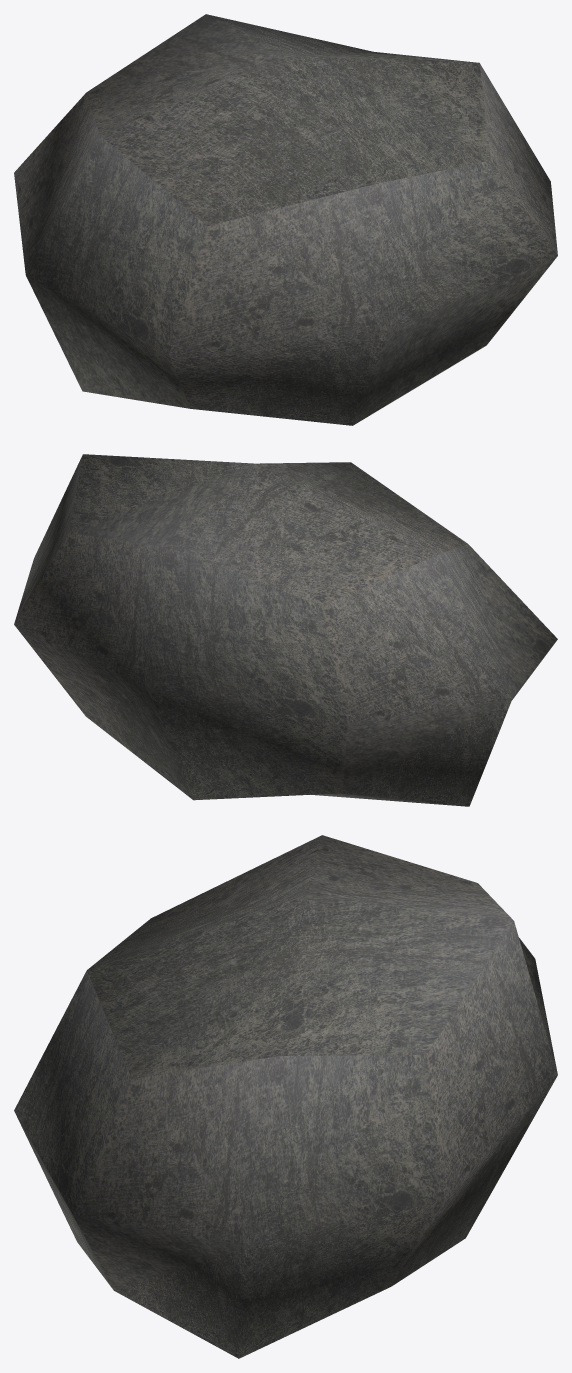
Rendered from IronOre.FBX.
The picture shows the model from 3 angles, top to bottom: view 1: azimuth 30°, elevation 25°; view 2: azimuth 150°, elevation 25°; view 3: azimuth 270°, elevation 25°; orthographic projection. The views are drawn at different scales.
Parts seen in each view (by area): view 1: Box001; view 2: Box001; view 3: Box001.
Boxes of the visible parts, x1=… form: Box001: x1=14, y1=14, x2=557, y2=425; Box001: x1=14, y1=454, x2=557, y2=806; Box001: x1=14, y1=835, x2=557, y2=1358.
Size of the model in its own units: 39.34 by 24.87 by 30.28.
1 material, 1 textured.
